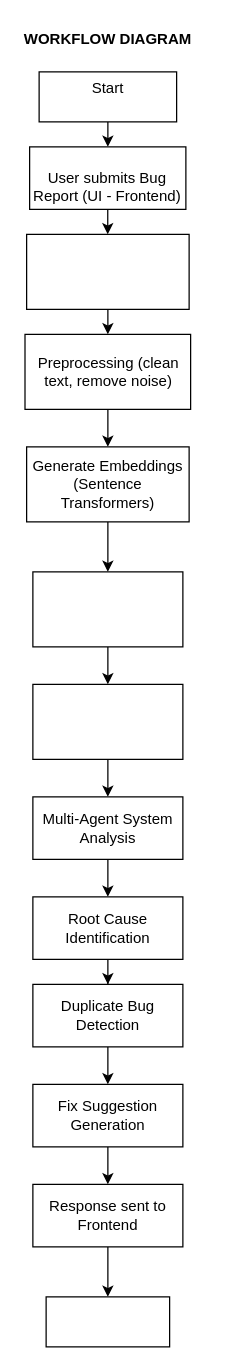
This 243x1369 diagram has some shape labels left out. Each missing label, with the centre of its shape:
"End" goes at point (107, 1321).
"FAISS Vector Search" goes at point (107, 609).
"Flask Backend API receives request" goes at point (107, 271).
"Retrieve Similar Bugs (Top K results)" goes at point (107, 721).
